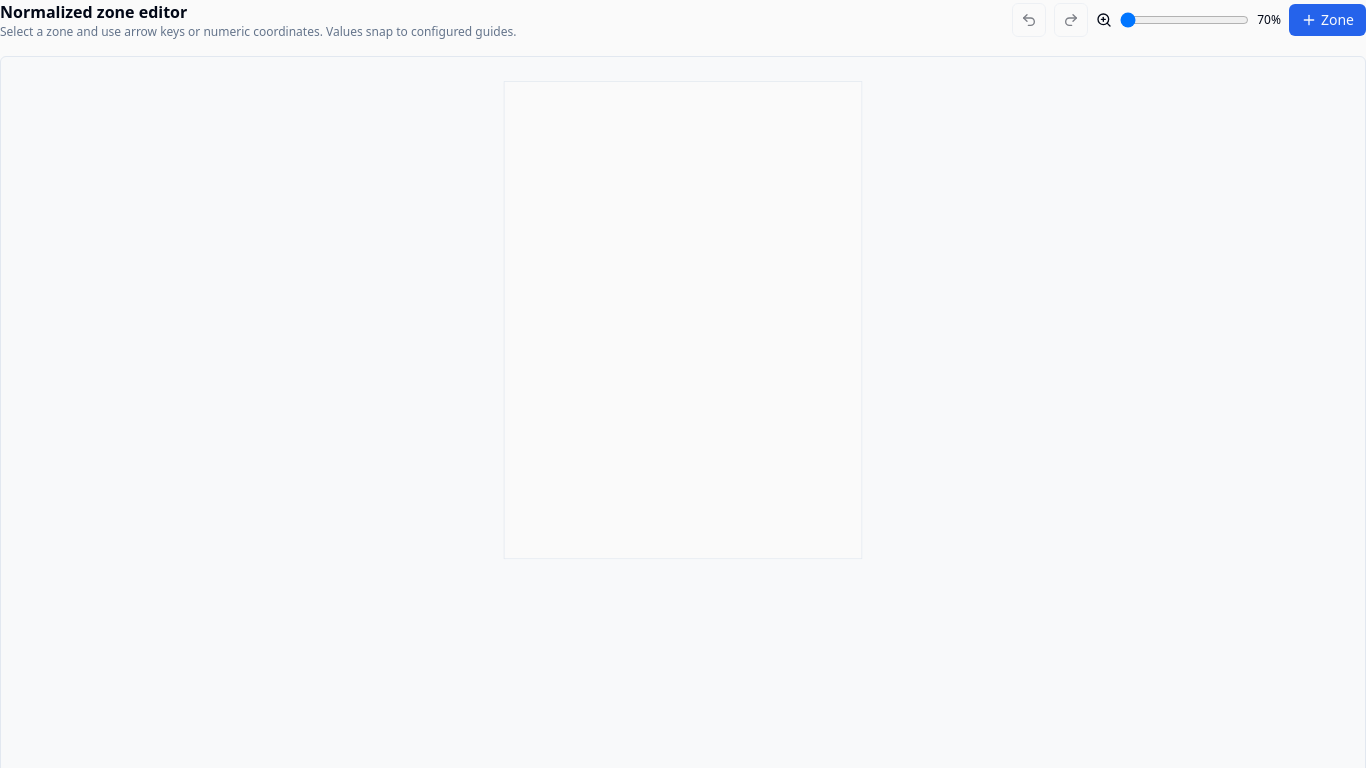
Scenario: ZoneEditor accessibility › supports adding, keyboard movement, zoom, and undo without a pointer
Expected: the slider named "Editor zoom" is shown, [1120,12,1249,28]
Click the button "Zone".
click(1328, 20)  # box [1289,4,1365,36]
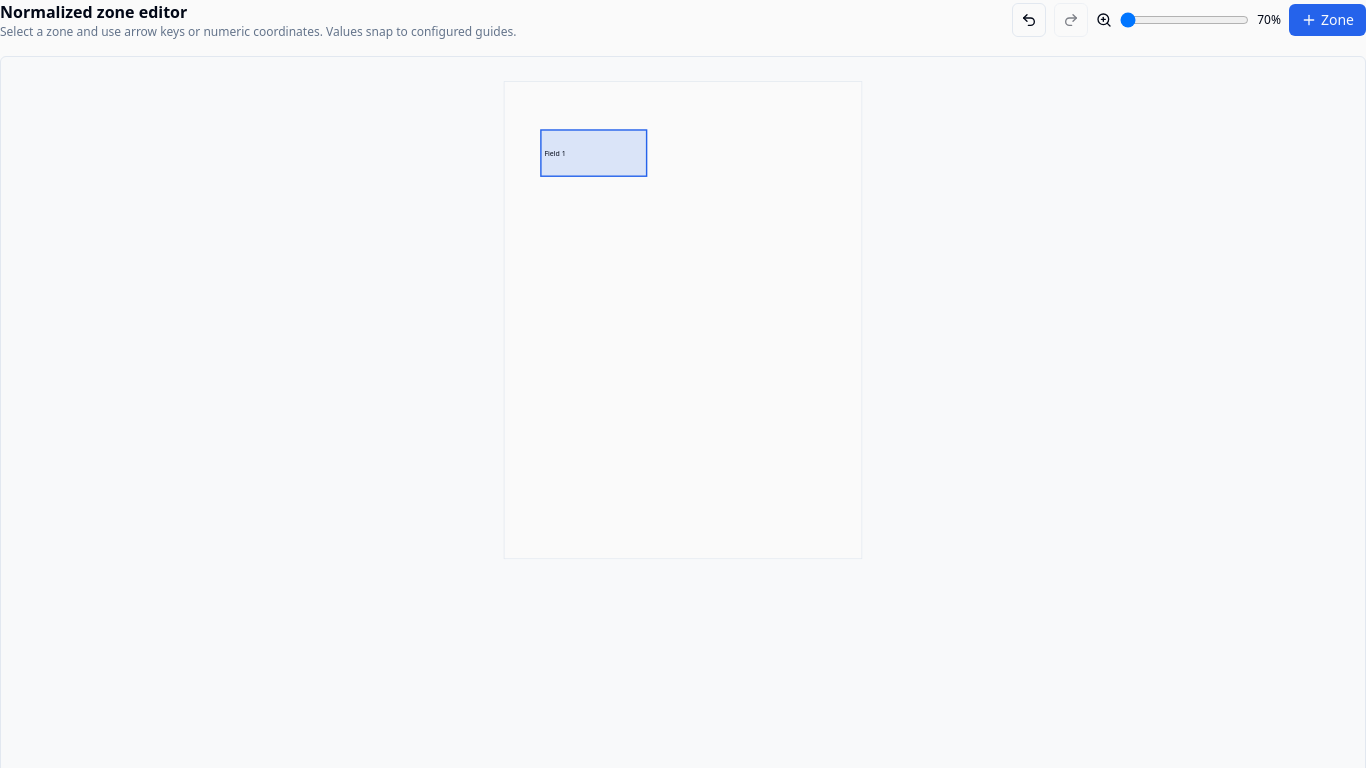
Press ArrowRight in the button "Field 1", box [540,129,647,177]
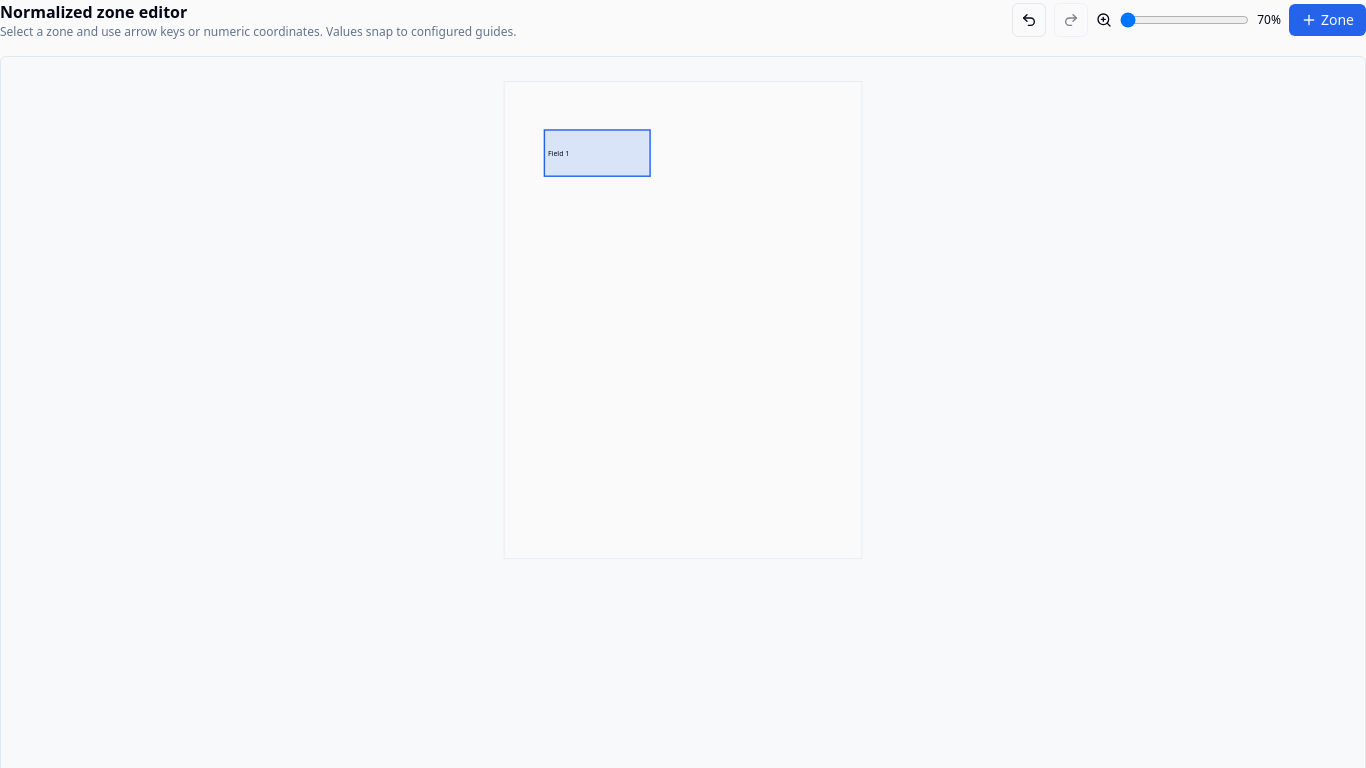
Click the button named "Undo zone change".
click(1029, 20)  # box [1012,3,1046,37]
(page scrolled)
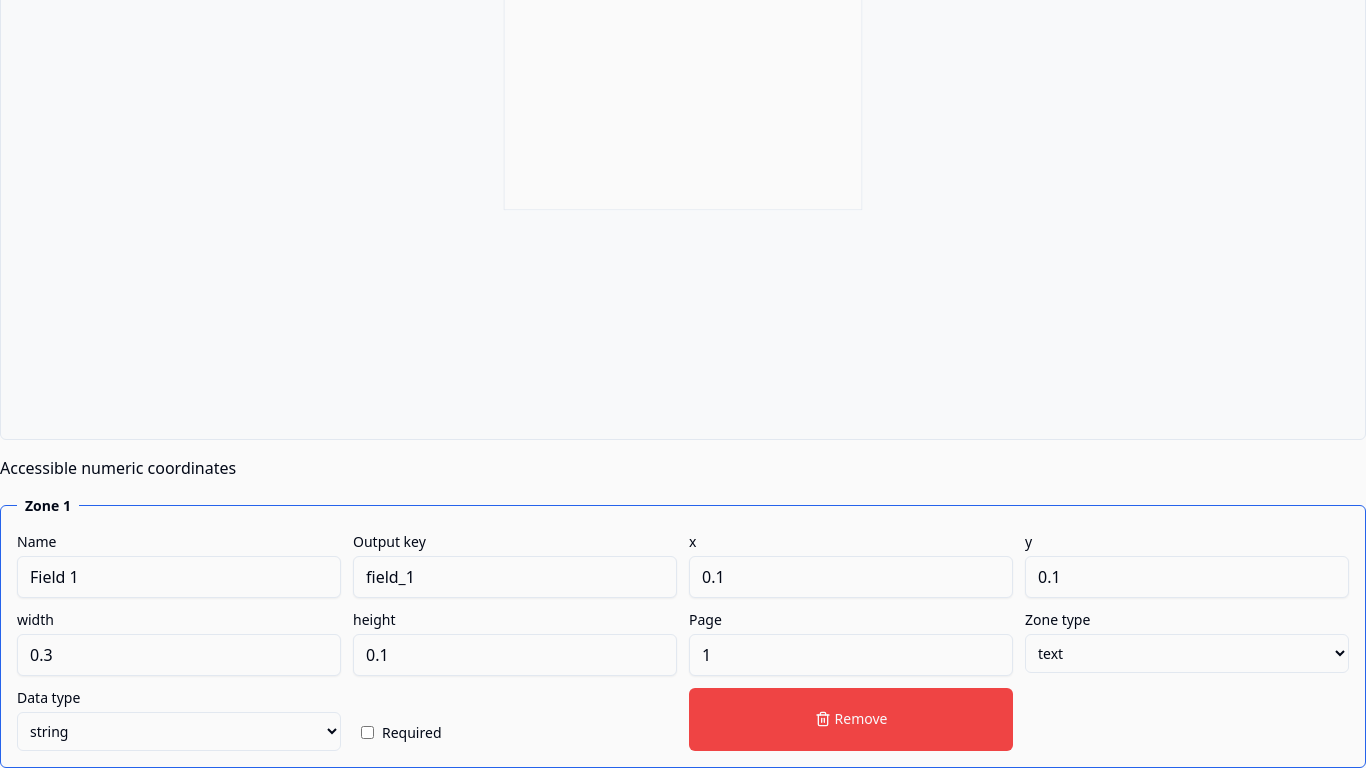
Expected: the number field labelled "x" holds "0.1", [689,556,1013,598]
